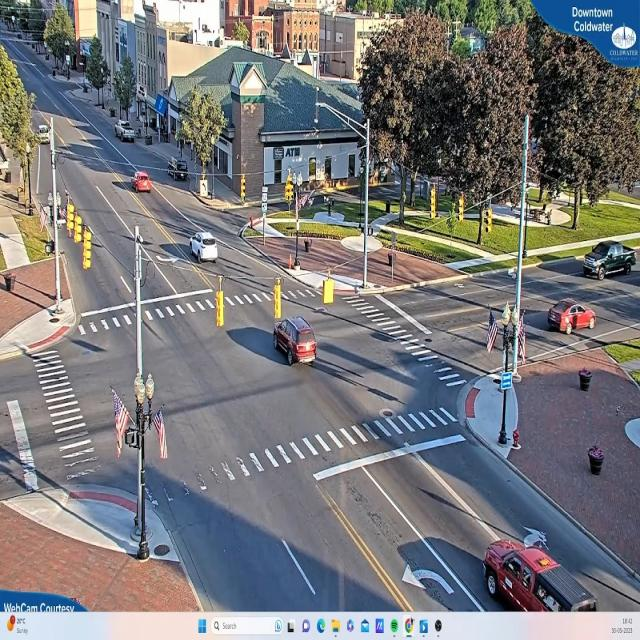car: (483, 538, 599, 612), (274, 315, 318, 366), (582, 242, 634, 278), (546, 300, 594, 336), (188, 233, 221, 263), (117, 122, 137, 144), (132, 172, 151, 192)
